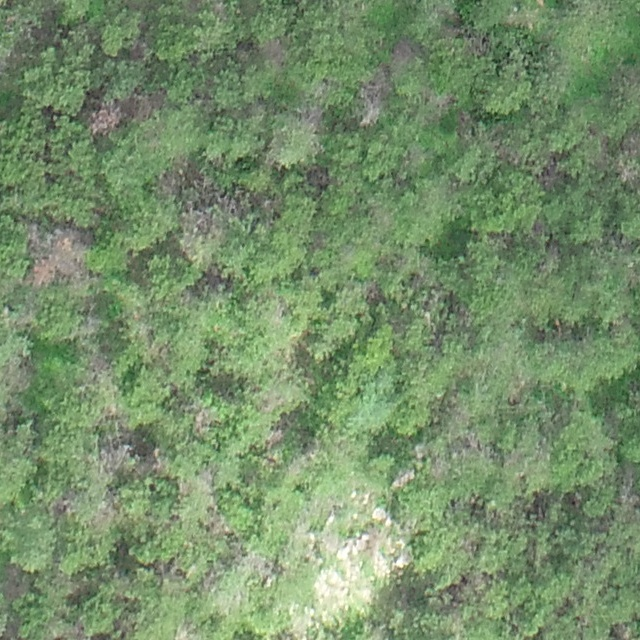unhealthy: (23, 221, 93, 289), (175, 187, 226, 237), (356, 68, 391, 127), (98, 432, 134, 475), (154, 158, 190, 198), (616, 126, 640, 185), (87, 99, 125, 136), (2, 353, 34, 391), (90, 493, 121, 531), (616, 461, 640, 510), (131, 88, 165, 120), (242, 548, 277, 579), (0, 565, 29, 599), (46, 489, 79, 518), (255, 36, 288, 65), (45, 620, 90, 640), (297, 103, 326, 132), (188, 405, 216, 435), (389, 39, 418, 67), (172, 620, 202, 639), (608, 620, 636, 640)
